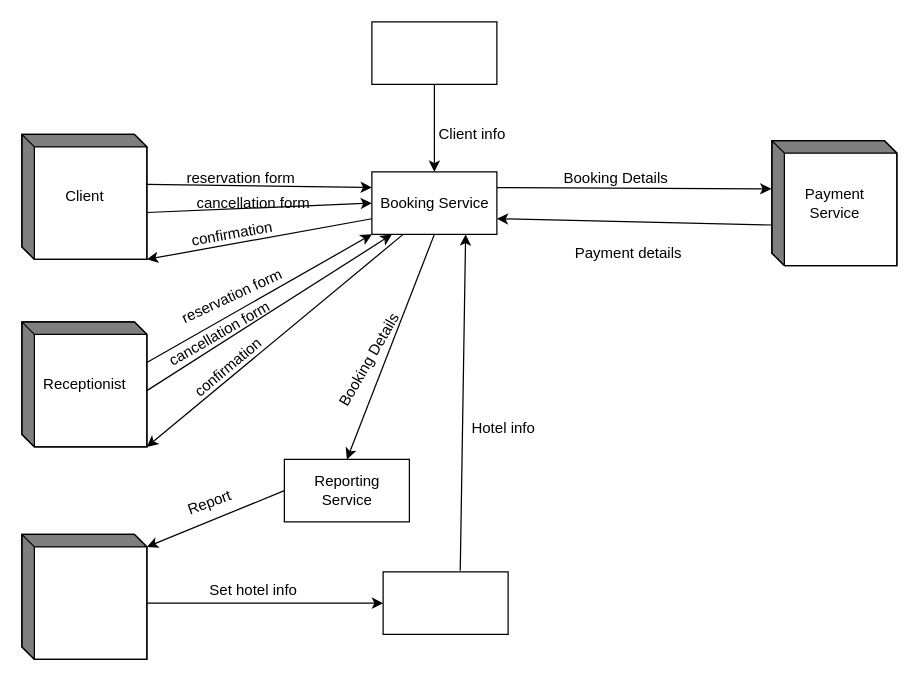
Some shapes in this 919 by 681 pixel diagram are drawn without their labels. Here are the shapes that lost their labels. From the top down, the centre of each, then its label:
(434,52): Customer Service
(84,596): Manager
(445,602): Hotel Service
